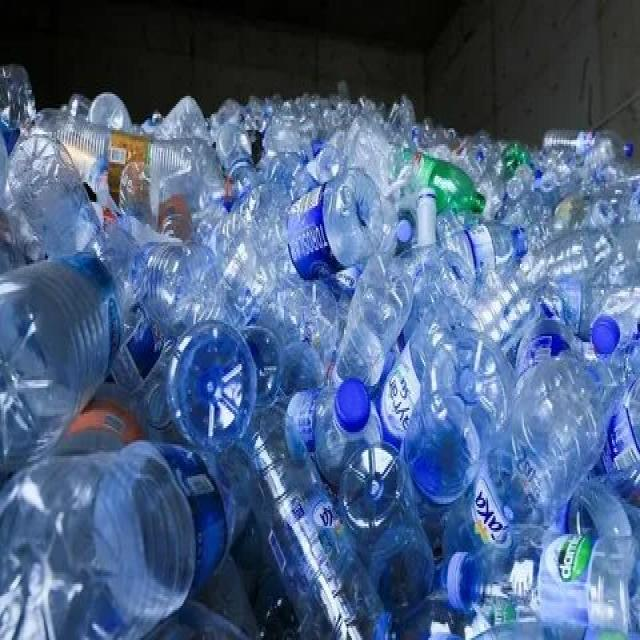blue: (1, 442, 251, 640), (231, 408, 391, 640), (440, 348, 614, 553), (1, 253, 124, 470), (461, 523, 639, 635)
